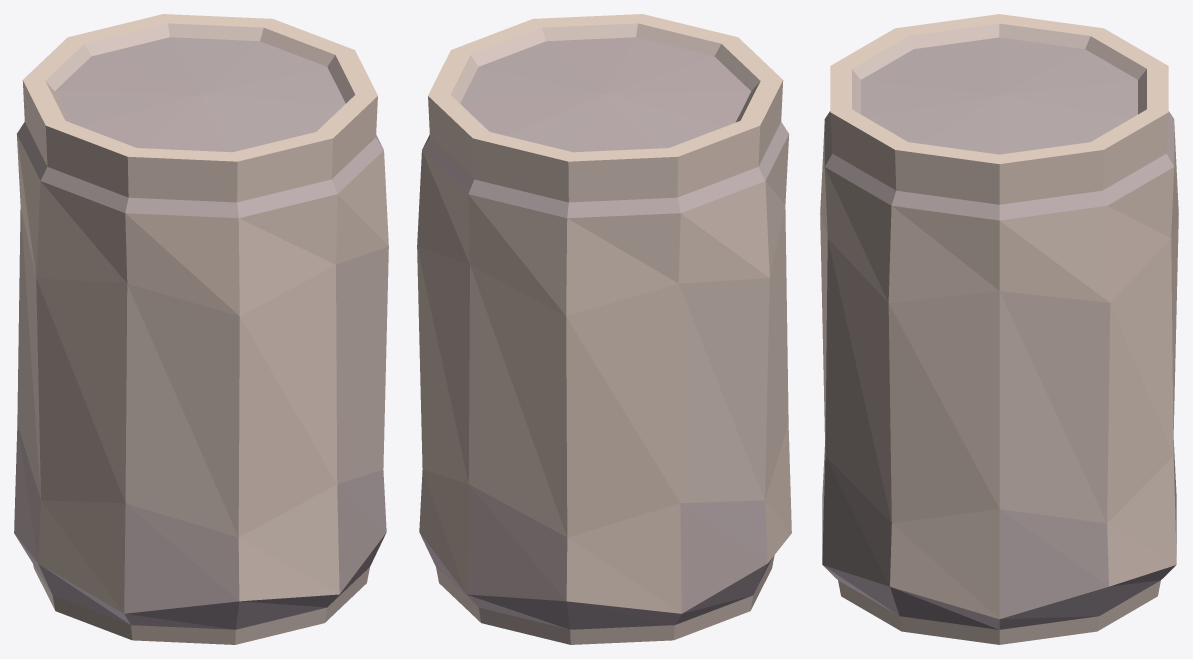
File: tin_can.fbx
3 views of the same model, side by side, from view 1: azimuth 30°, elevation 25°; view 2: azimuth 150°, elevation 25°; view 3: azimuth 270°, elevation 25° (orthographic).
Parts seen in each view (by area): view 1: tin_can; view 2: tin_can; view 3: tin_can.
Boxes of the visible parts, x1,y1,x2,y2 form: tin_can: (14,14,388,644); tin_can: (417,14,791,644); tin_can: (820,14,1178,644).
Bounding box in the file's own units: 9.59 × 13.7 × 9.18.
